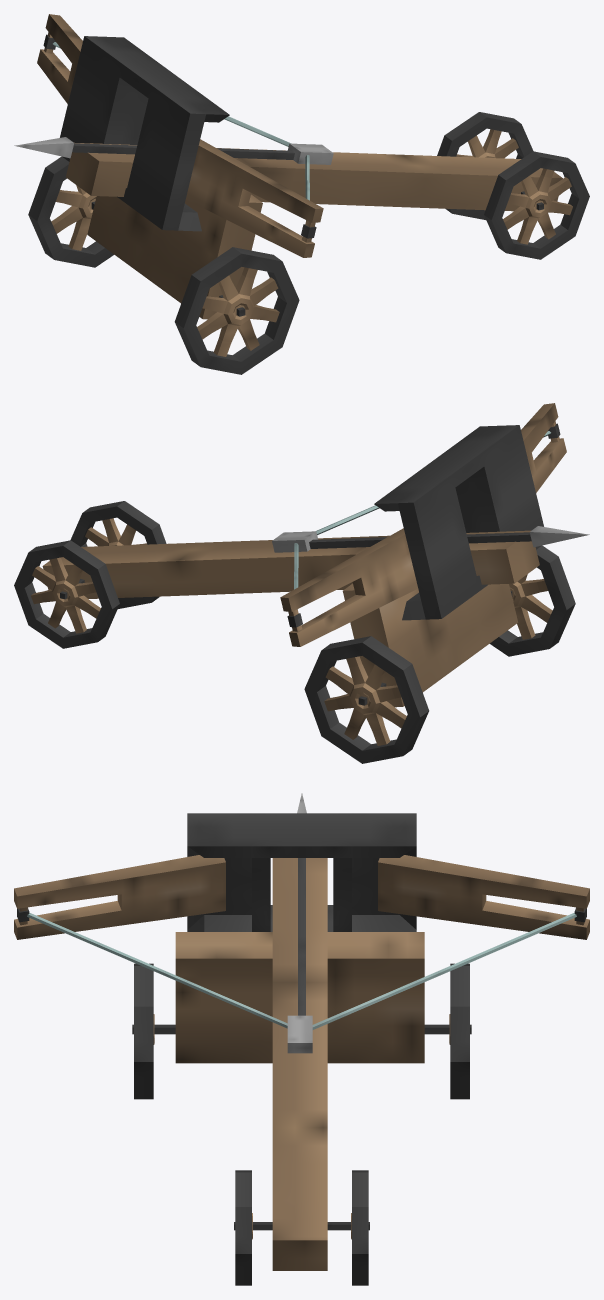
Rendered from Xebancung.fbx.
3 renders of one model, top to bottom at view 1: azimuth 30°, elevation 25°; view 2: azimuth 150°, elevation 25°; view 3: azimuth 270°, elevation 25°, orthographic. The views are drawn at different scales.
Visible parts, largest first — view 1: Xebancung; view 2: Xebancung; view 3: Xebancung.
Boxes of the visible parts, <box> form: Xebancung: <box>14,14,589,374</box>; Xebancung: <box>14,403,589,763</box>; Xebancung: <box>14,793,589,1285</box>.
Size of the model in its own units: 551 by 245 by 467.
